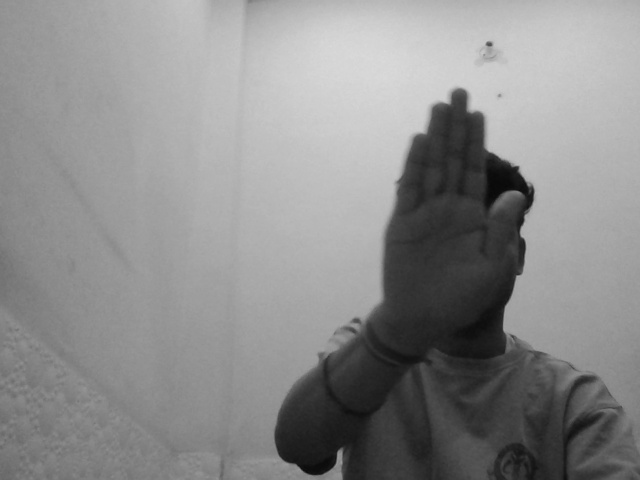Stop: (374, 72, 531, 333)
